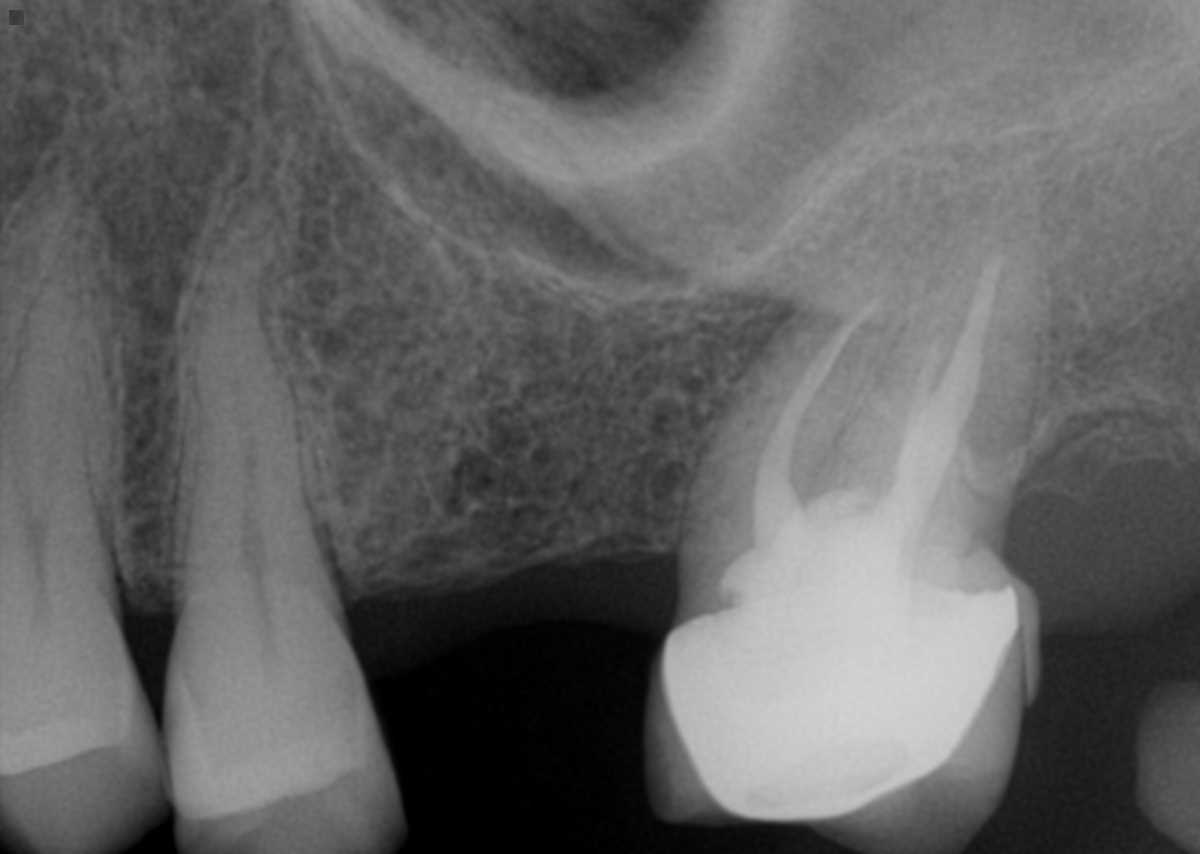Distal Root: (844, 336, 974, 545)
Main Canal: (228, 264, 268, 603), (11, 449, 63, 560)
Main Root: (183, 192, 340, 608), (0, 216, 118, 582)
Mesial Root: (680, 255, 910, 556)
Palatal Root: (790, 228, 1046, 592)
Root Canal Filling: (871, 247, 1002, 547), (755, 300, 880, 552), (905, 341, 941, 443)
